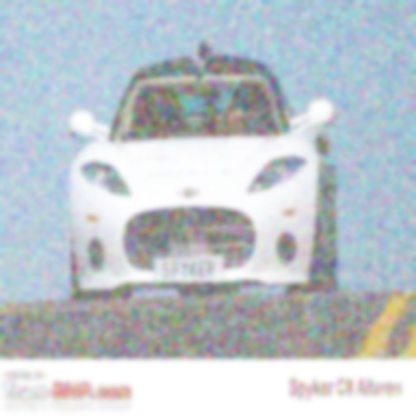Vehicle: (66, 36, 341, 304)
